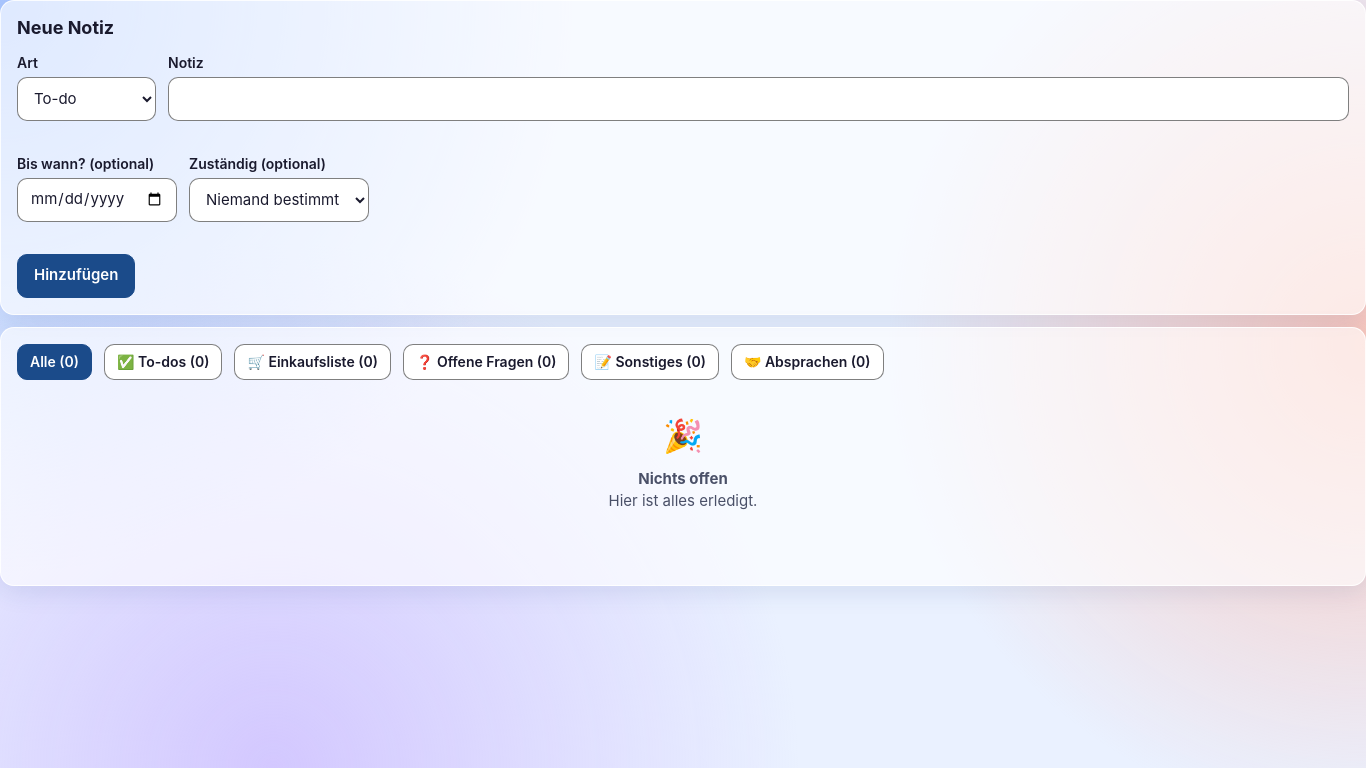
Notizen: anlegen, erledigen, ändern, löschen › ohne Text wird nichts gespeichert
This screenshot has width=1366, height=768.
Expected: the text "Nichts offen" is shown, [638,468,728,488]
Click the button "Hinzufügen" at (76, 276), box [17,254,135,298]
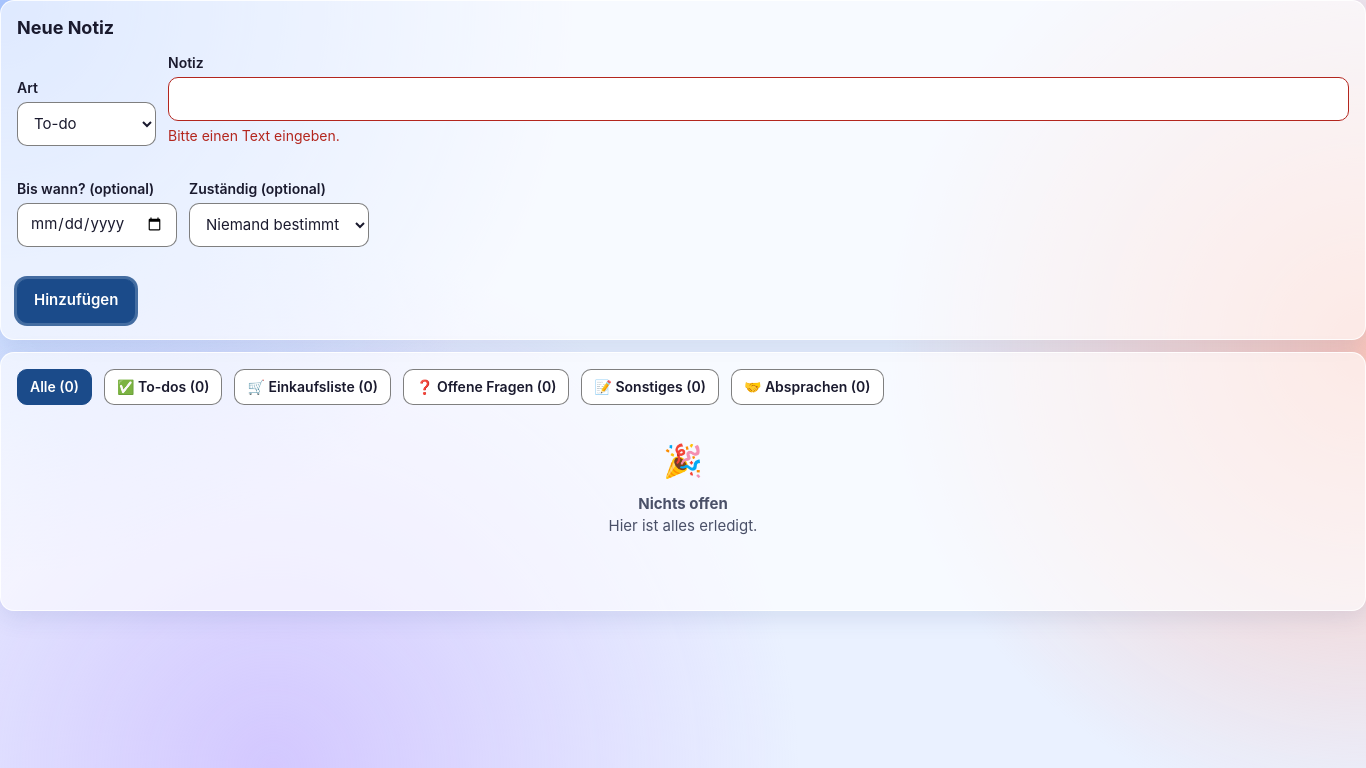
Now the text "Bitte einen Text eingeben." is shown, box [168,126,340,144]
